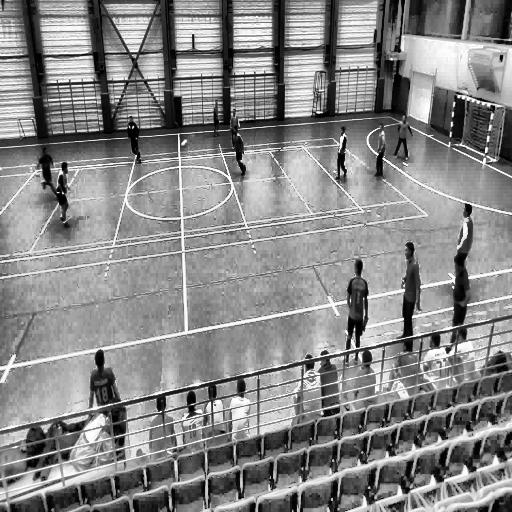ball: (180, 138, 188, 151)
player: (346, 256, 368, 364), (399, 241, 421, 344), (451, 253, 471, 331), (36, 146, 58, 204), (57, 160, 72, 232), (232, 110, 247, 177), (393, 112, 413, 161), (334, 124, 347, 183), (373, 123, 386, 179), (128, 118, 142, 164), (213, 100, 221, 137)
